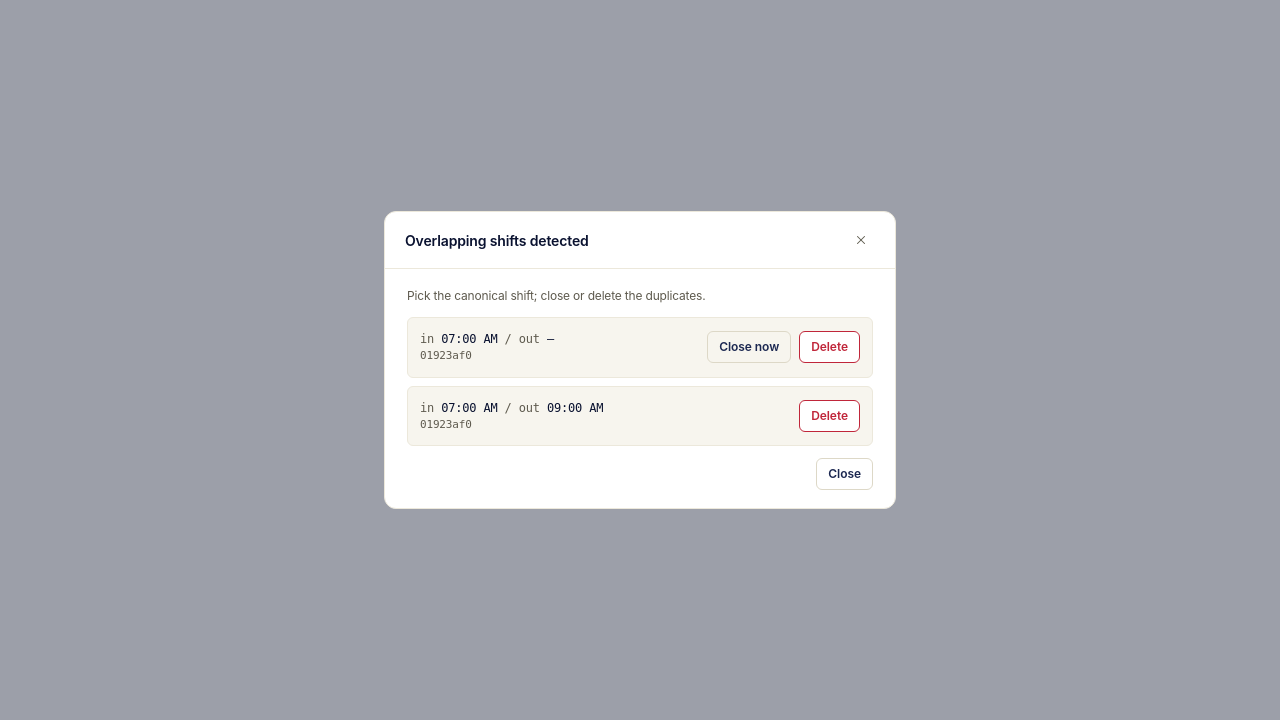
Scenario: Phase-09 §8 component-render: ResolveOverlappingShifts (dir=ltr) › close-now failure surfaces the raw error.message in the error banner
Expected: the number of list items is 2, [407,317,873,378]; [407,386,873,446]
Click the button "Close now" at (749, 347), box [707,331,791,363]
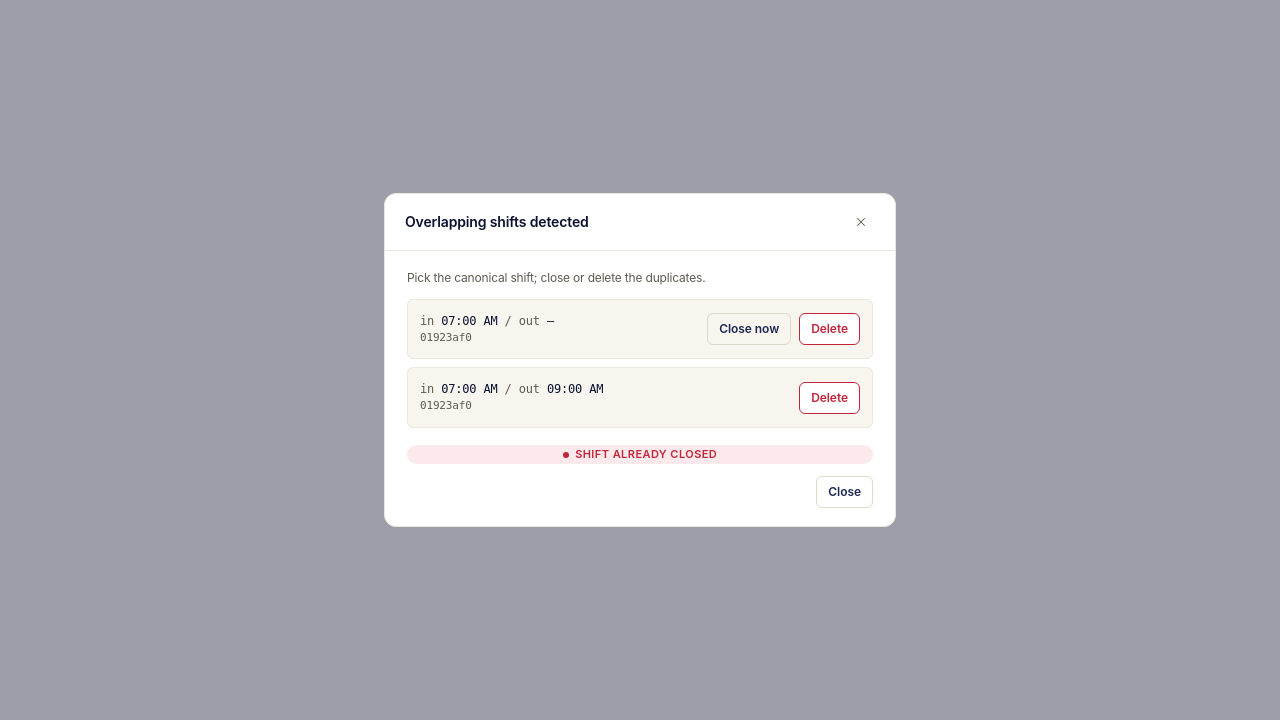
Expected: the text "shift already closed" is shown, [407,445,873,464]
